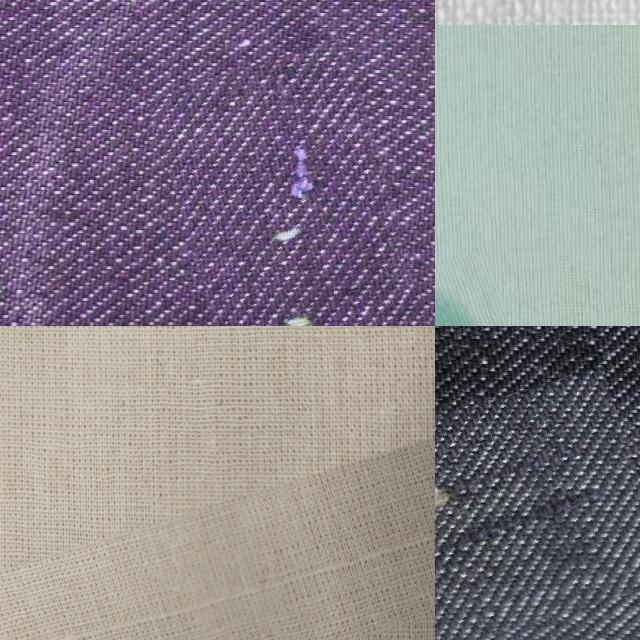stains: (0, 459, 435, 640), (169, 48, 419, 326), (435, 388, 640, 640)
